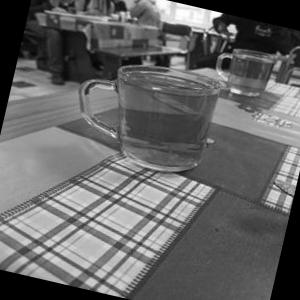tea: (82, 52, 234, 186), (214, 36, 284, 117)
